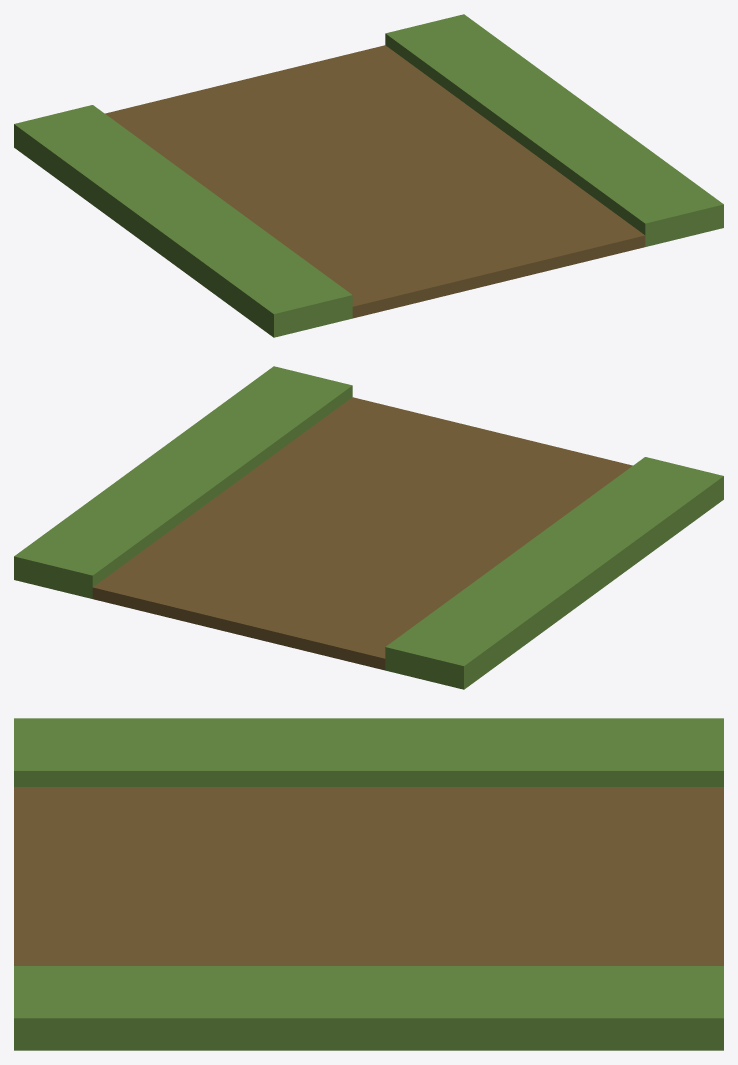
The model's file is road_straight.fbx.
The picture shows the model from 3 angles, top to bottom: view 1: azimuth 30°, elevation 25°; view 2: azimuth 150°, elevation 25°; view 3: azimuth 270°, elevation 25°; orthographic projection. The views are drawn at different scales.
Parts seen in each view (by area): view 1: Cube.007; view 2: Cube.007; view 3: Cube.007.
Part boxes in pixels (<box>): Cube.007: <box>14,14,723,337</box>; Cube.007: <box>14,366,723,689</box>; Cube.007: <box>14,718,723,1050</box>.
Size of the model in its own units: 200 by 10 by 200.
